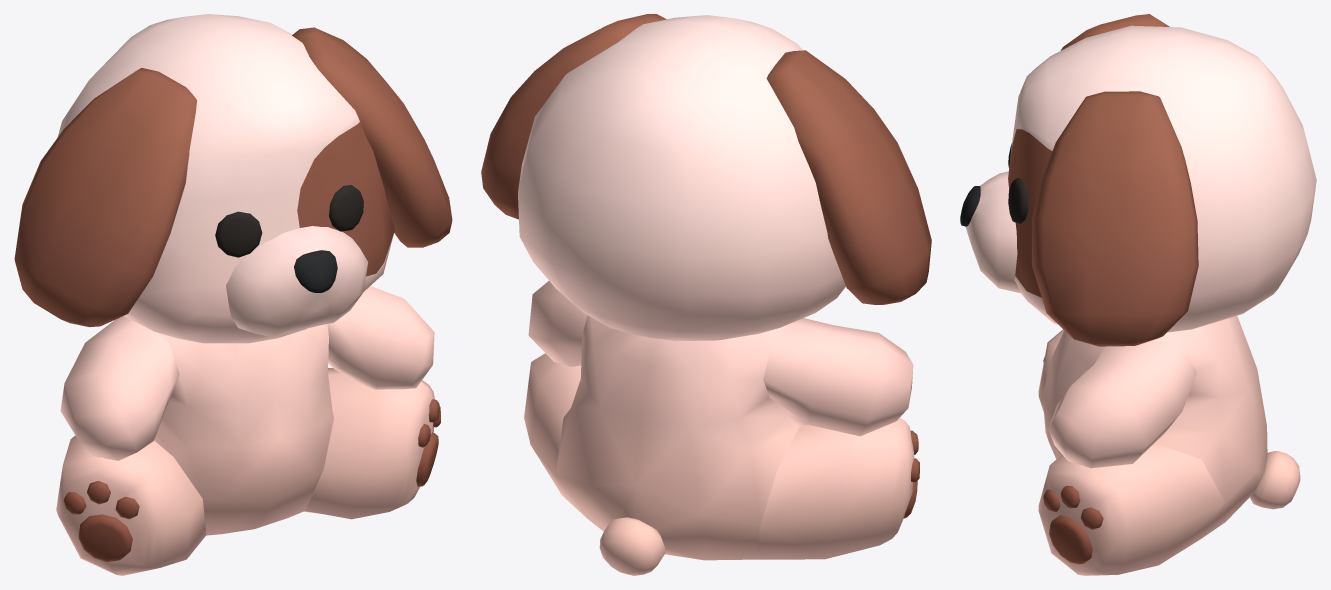
Rendered from dog.glb.
3 renders of one model, left to right at view 1: azimuth 30°, elevation 25°; view 2: azimuth 150°, elevation 25°; view 3: azimuth 270°, elevation 25°, orthographic. The views are drawn at different scales.
Visible parts, largest first — view 1: Dog_01; view 2: Dog_01; view 3: Dog_01.
Part boxes in pixels (<box>): Dog_01: <box>14,14,452,575</box>; Dog_01: <box>481,14,931,575</box>; Dog_01: <box>960,14,1316,575</box>.
Size of the model in its own units: 0.3714 by 0.4301 by 0.2896.
Materials: 2 (2 with a texture image).
